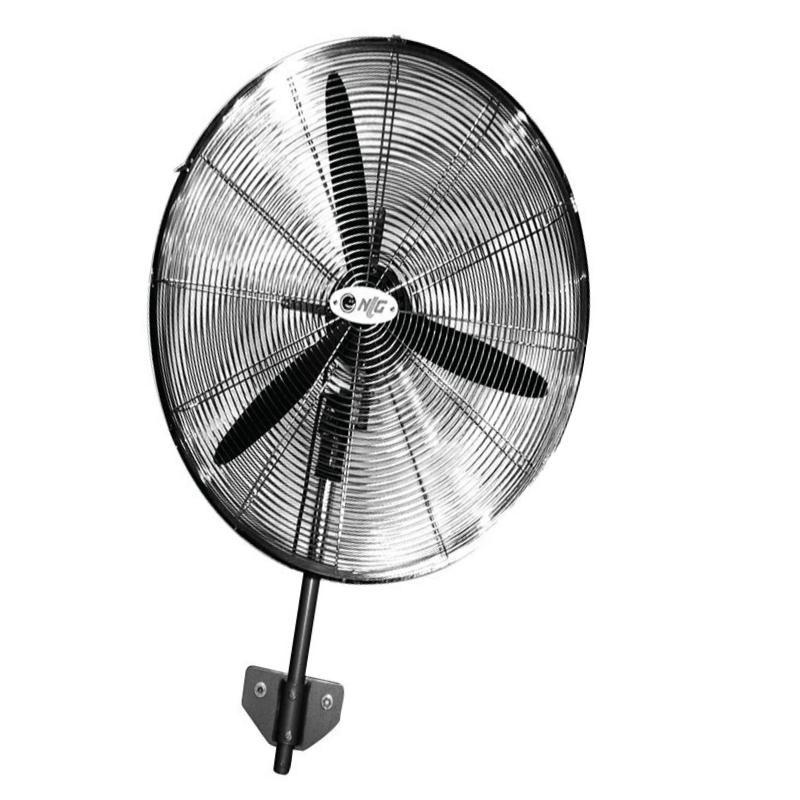fan: (106, 18, 598, 799)
